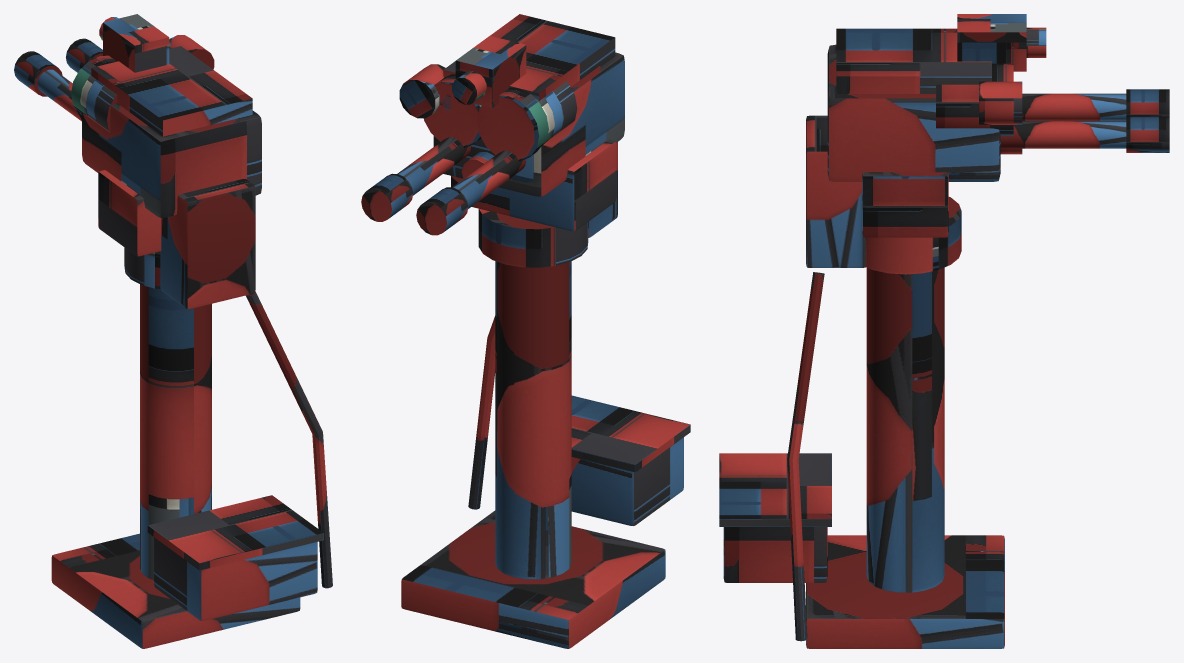
Rendered from DD_autoturret.glb.
The picture shows the model from 3 angles, left to right: view 1: azimuth 30°, elevation 25°; view 2: azimuth 150°, elevation 25°; view 3: azimuth 270°, elevation 25°; orthographic projection. The views are drawn at different scales.
Parts seen in each view (by area): view 1: DD_autoturret; view 2: DD_autoturret; view 3: DD_autoturret.
Boxes of the visible parts, <box> form: DD_autoturret: <box>14,14,332,648</box>; DD_autoturret: <box>361,14,690,648</box>; DD_autoturret: <box>719,14,1169,648</box>.
Size of the model in its own units: 0.5439 by 1.49 by 1.04.
1 material, 1 textured.
